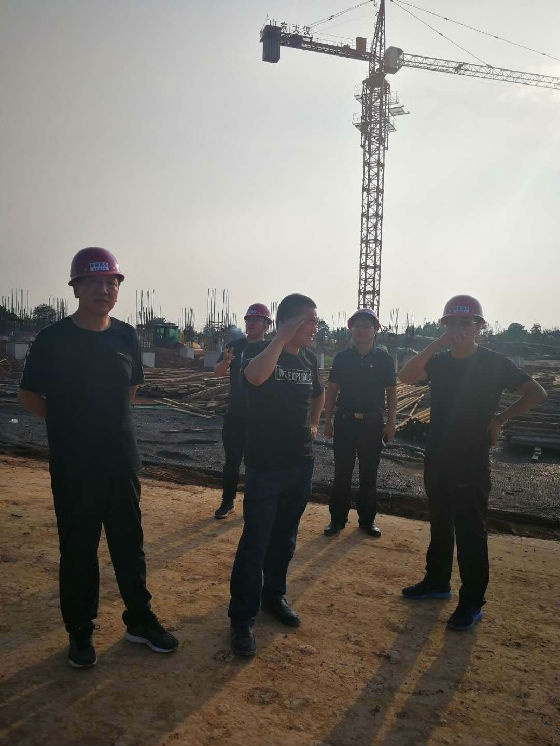none: (275, 291, 320, 346)
red: (64, 240, 126, 319), (438, 292, 486, 348), (344, 309, 382, 347), (239, 302, 273, 339)
